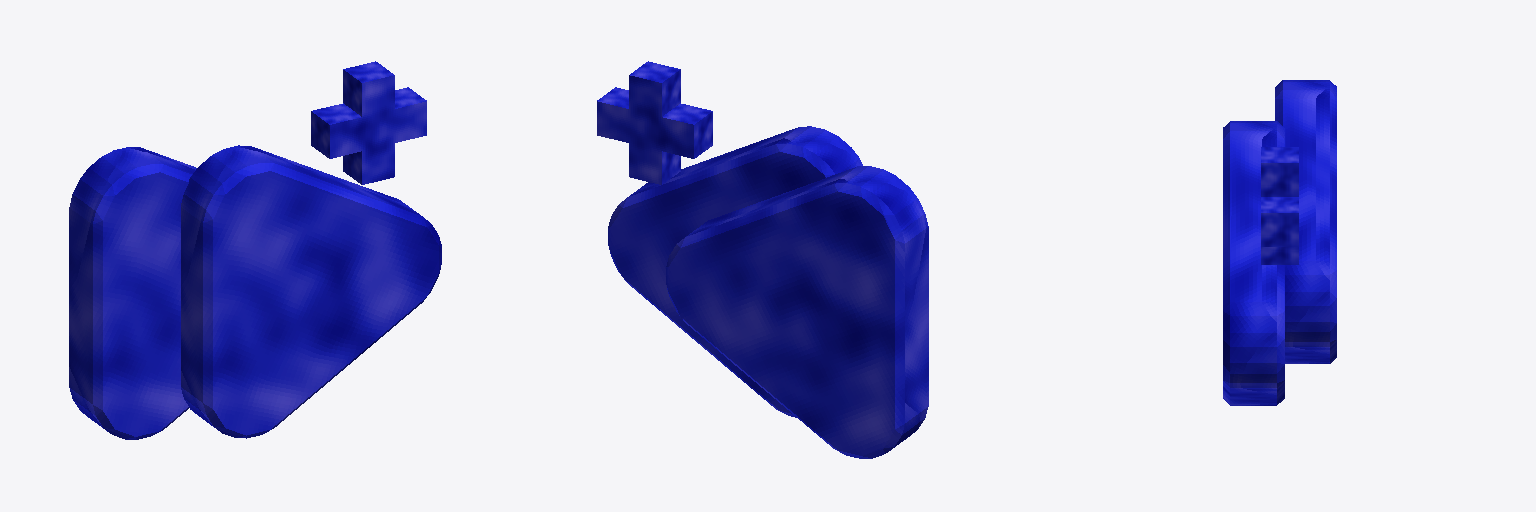
3 renders of one model, left to right at view 1: azimuth 30°, elevation 25°; view 2: azimuth 150°, elevation 25°; view 3: azimuth 270°, elevation 25°, orthographic.
Visible parts, largest first — view 1: PowerUp; view 2: PowerUp; view 3: PowerUp.
Boxes of the visible parts, x1=… form: PowerUp: x1=69, y1=61, x2=441, y2=439; PowerUp: x1=597, y1=61, x2=928, y2=458; PowerUp: x1=1223, y1=80, x2=1336, y2=405.
Size of the model in its own units: 1 by 0.9225 by 0.305.
1 materials, 1 textured.